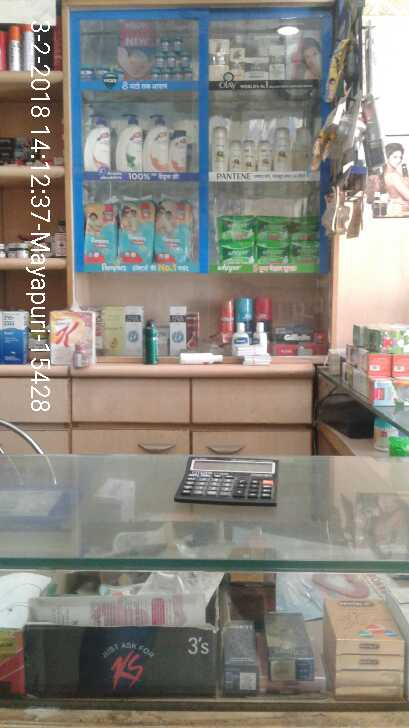vicks: (150, 33, 195, 77)
